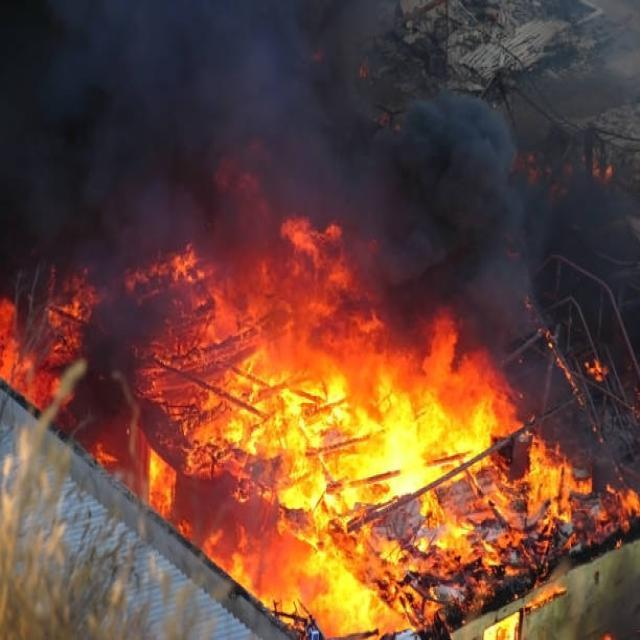Fire: (0, 0, 385, 248), (196, 353, 457, 558)
Smoke: (353, 118, 525, 350)
